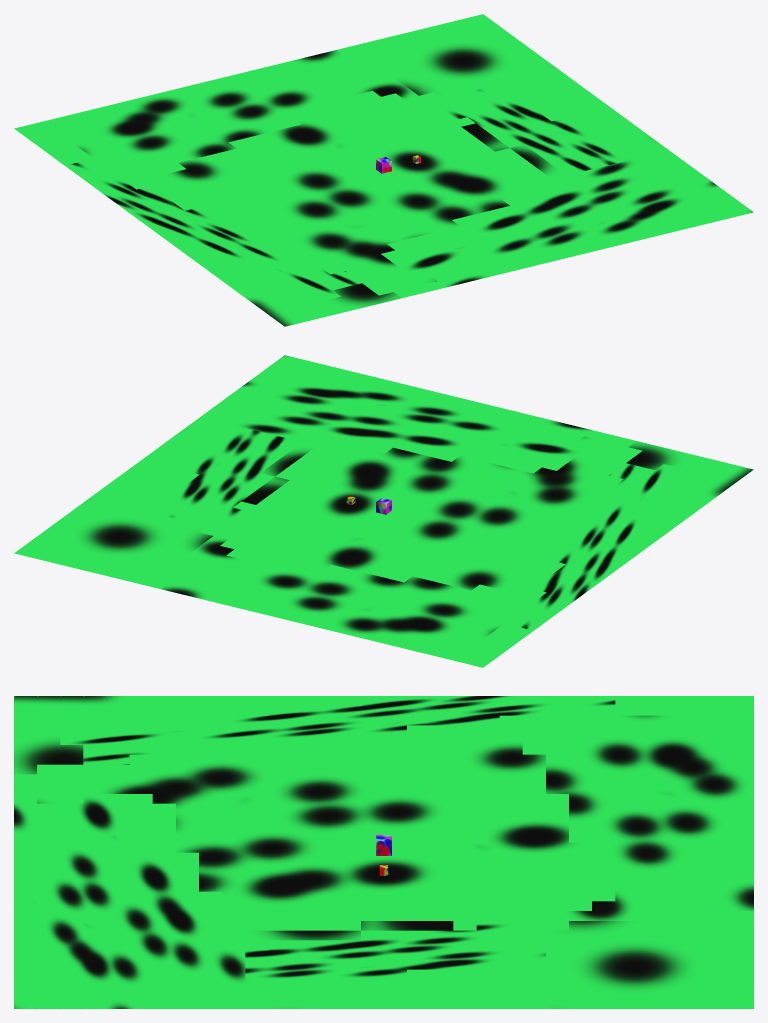
Rendered from mvm.gltf.
The picture shows the model from 3 angles, top to bottom: view 1: azimuth 30°, elevation 25°; view 2: azimuth 150°, elevation 25°; view 3: azimuth 270°, elevation 25°; orthographic projection. The views are drawn at different scales.
Visible parts, largest first — view 1: Plane; view 2: Plane; view 3: Plane.
Boxes of the visible parts, x1,y1,x2,y2 form: Plane: (14, 14, 753, 326); Plane: (14, 355, 753, 667); Plane: (14, 696, 753, 1008).
Bounding box in the file's own units: 281 × 6.06 × 281.
Materials: 3 (3 with a texture image).
